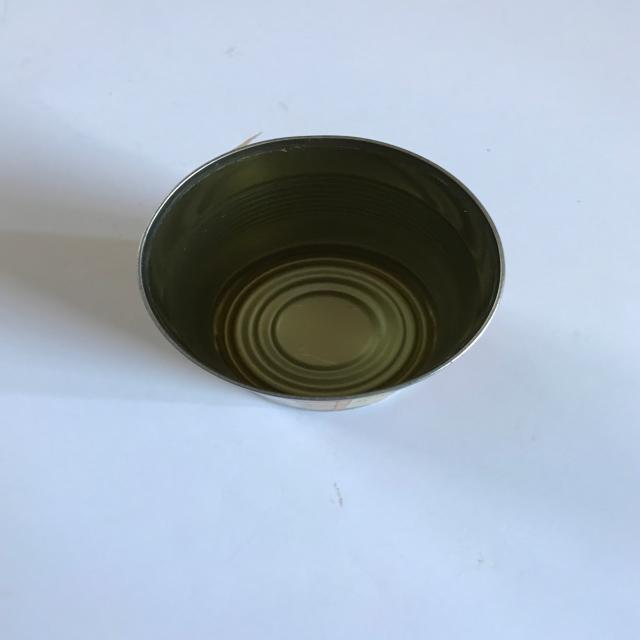metal: (137, 133, 506, 412)
